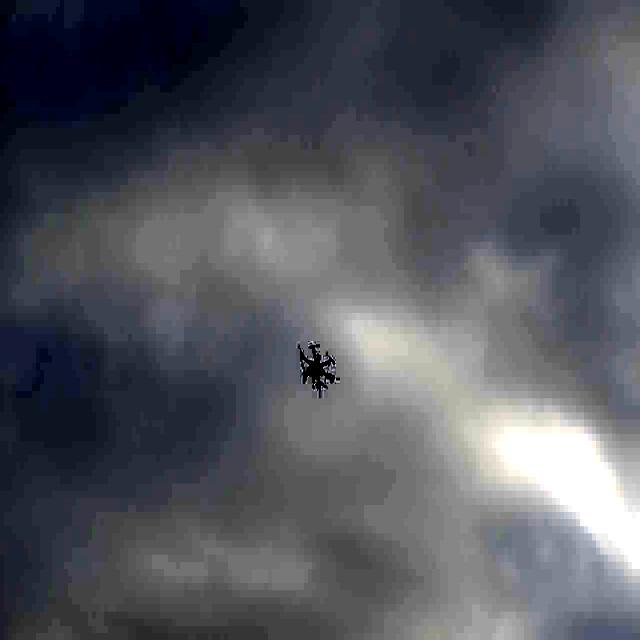drone: (297, 336, 338, 396)
